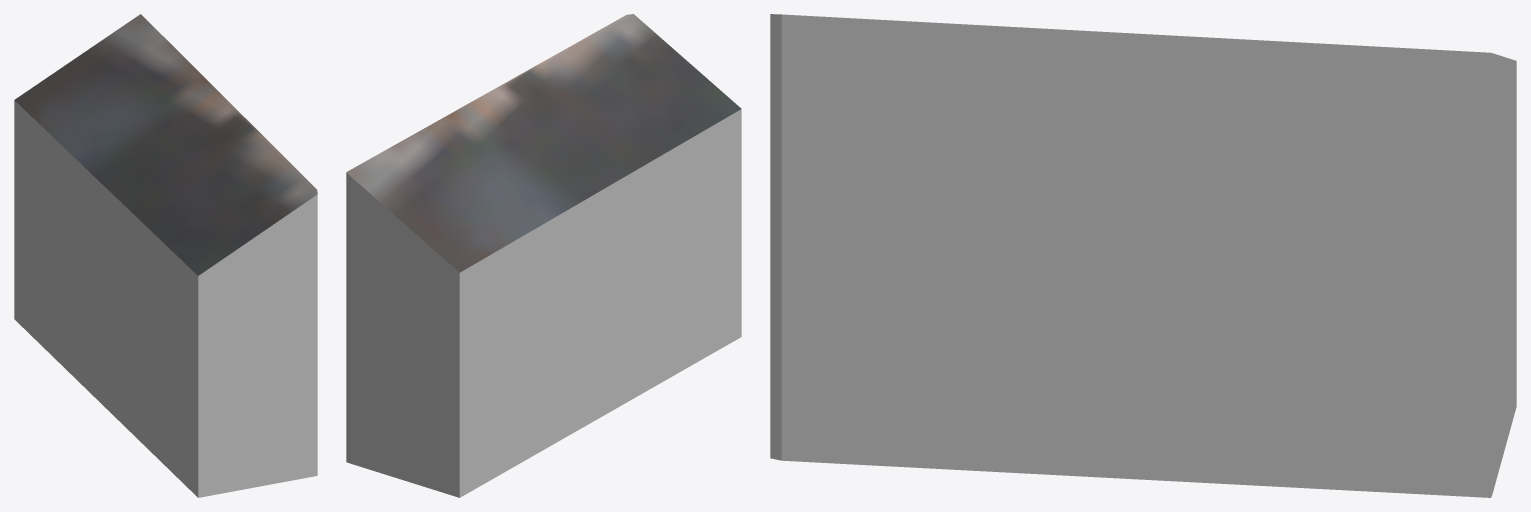
File: DEBW_0010007THX9.gltf
3 views of the same model, side by side, from view 1: azimuth 30°, elevation 25°; view 2: azimuth 150°, elevation 25°; view 3: azimuth 270°, elevation 25° (orthographic). The views are drawn at different scales.
Parts seen in each view (by area): view 1: Z_UP; view 2: Z_UP; view 3: Z_UP.
Part boxes in pixels (x1,y1,x2,y2): Z_UP: (14, 14, 317, 497); Z_UP: (346, 14, 741, 497); Z_UP: (770, 14, 1516, 497).
Bounding box in the file's own units: 2.1 × 3.46 × 5.25.
2 materials, 1 textured.
